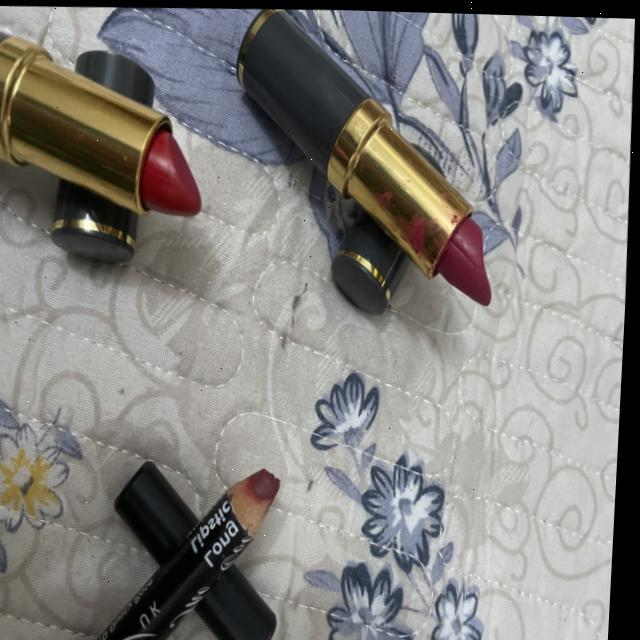lip liner: (0, 423, 318, 640)
lip stick: (224, 6, 539, 326), (0, 19, 237, 259)
